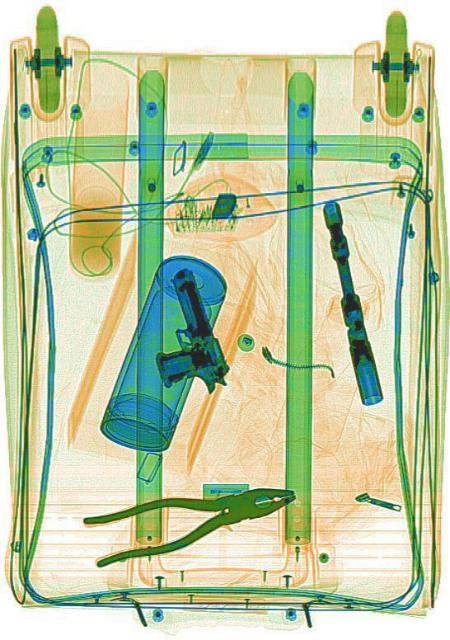Gun: (136, 257, 230, 417)
Pliers: (80, 467, 298, 569)
